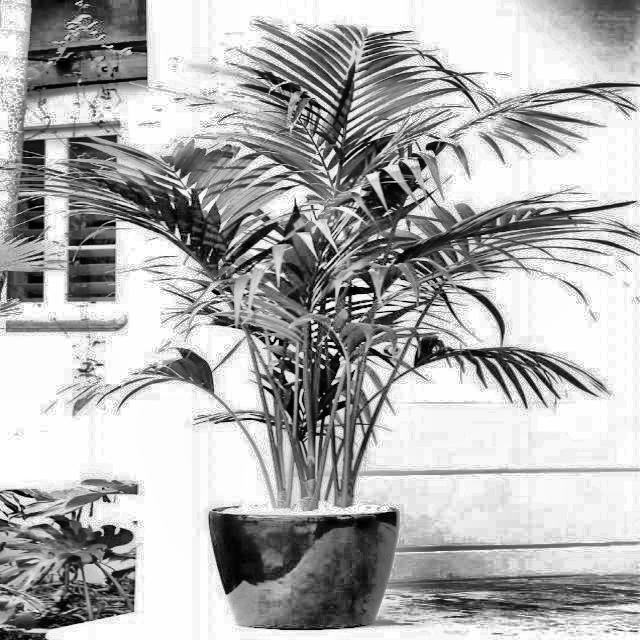plants: (57, 30, 587, 629)
